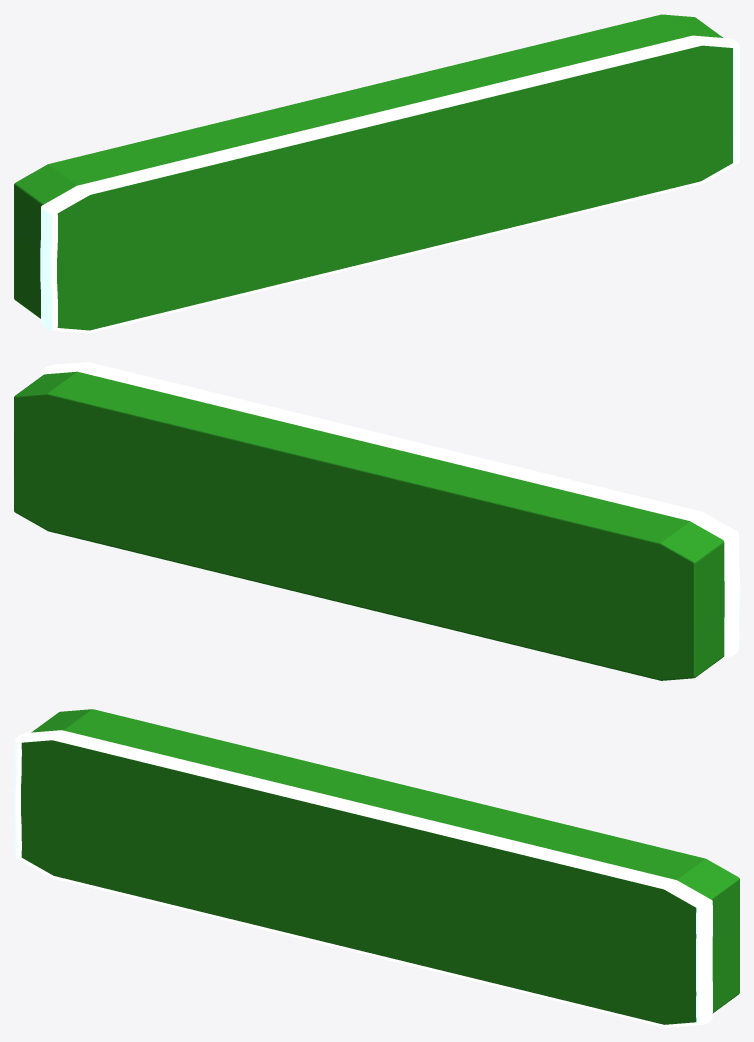
File: ButtonGreen.fbx
3 renders of one model, top to bottom at view 1: azimuth 30°, elevation 25°; view 2: azimuth 150°, elevation 25°; view 3: azimuth 330°, elevation 25°, orthographic.
Parts seen in each view (by area): view 1: ButtonGreen_Base, ButtonGreen_Outline; view 2: ButtonGreen_Base, ButtonGreen_Outline; view 3: ButtonGreen_Base, ButtonGreen_Outline.
Part boxes in pixels (bbox=[...]): ButtonGreen_Base: bbox=[14, 14, 732, 330]; ButtonGreen_Outline: bbox=[40, 35, 739, 333]; ButtonGreen_Base: bbox=[14, 371, 724, 680]; ButtonGreen_Outline: bbox=[41, 362, 739, 657]; ButtonGreen_Base: bbox=[21, 709, 739, 1024]; ButtonGreen_Outline: bbox=[14, 730, 712, 1027].
Size of the model in its own units: 98.19 by 19.17 by 10.47.
